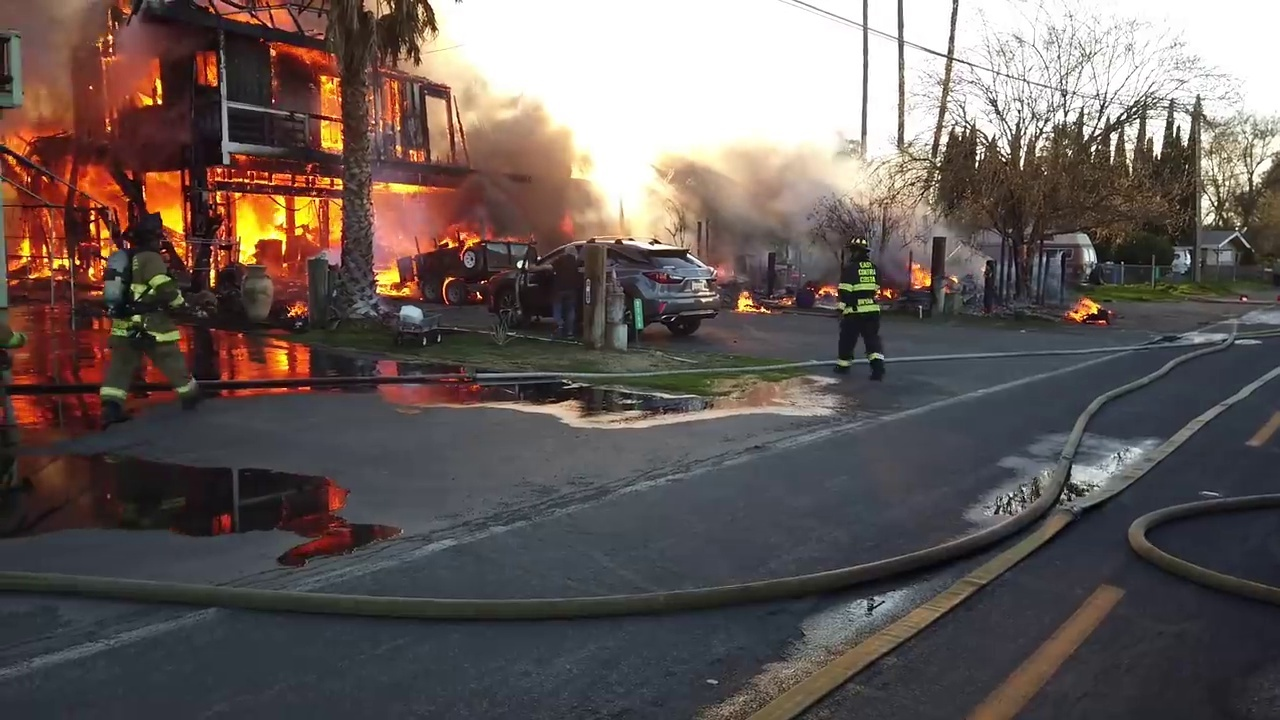fire: (1, 14, 465, 309), (315, 73, 345, 149), (438, 221, 490, 256), (1064, 298, 1110, 321), (732, 291, 785, 310), (909, 263, 932, 286), (814, 284, 838, 295), (876, 286, 895, 295)
smoke: (629, 85, 1007, 256), (423, 11, 599, 231), (26, 13, 207, 107), (372, 195, 429, 282)
